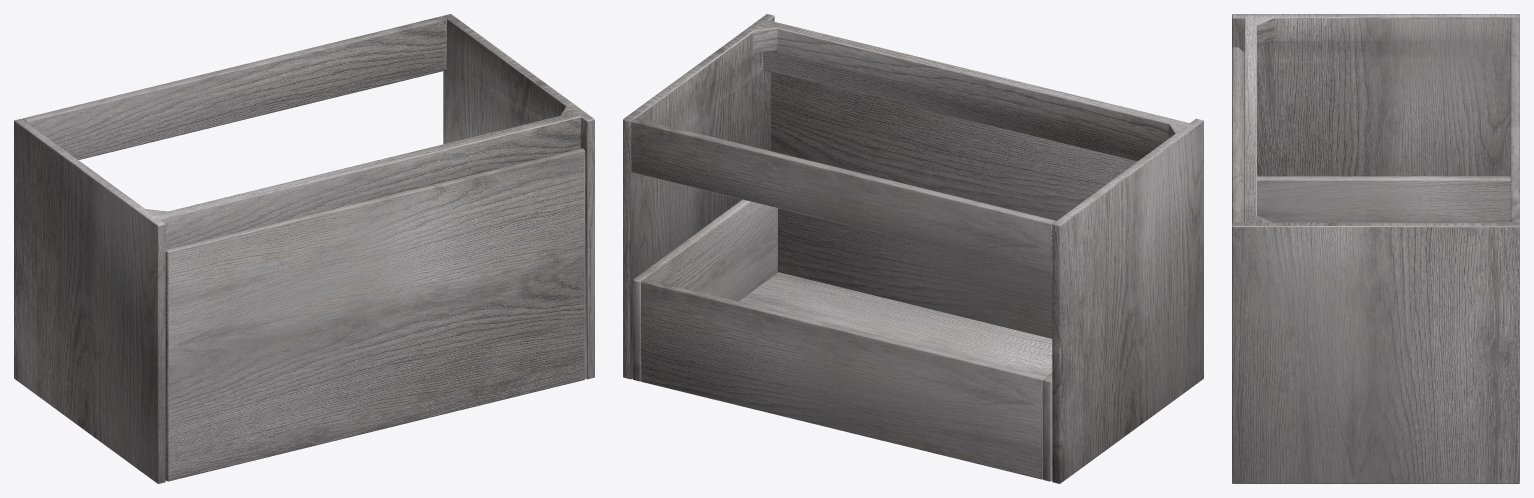
The model's file is Vanity-Cabinet-800mm.glb.
3 renders of one model, left to right at view 1: azimuth 30°, elevation 25°; view 2: azimuth 150°, elevation 25°; view 3: azimuth 270°, elevation 25°, orthographic.
Visible parts, largest first — view 1: Cube.001; view 2: Cube.001; view 3: Cube.001.
Part boxes in pixels (x1=…): Cube.001: x1=14, y1=14, x2=594, y2=483; Cube.001: x1=623, y1=14, x2=1203, y2=483; Cube.001: x1=1232, y1=14, x2=1519, y2=483.
Size of the model in its own units: 0.796 by 0.45 by 0.455.
1 material, 1 textured.
